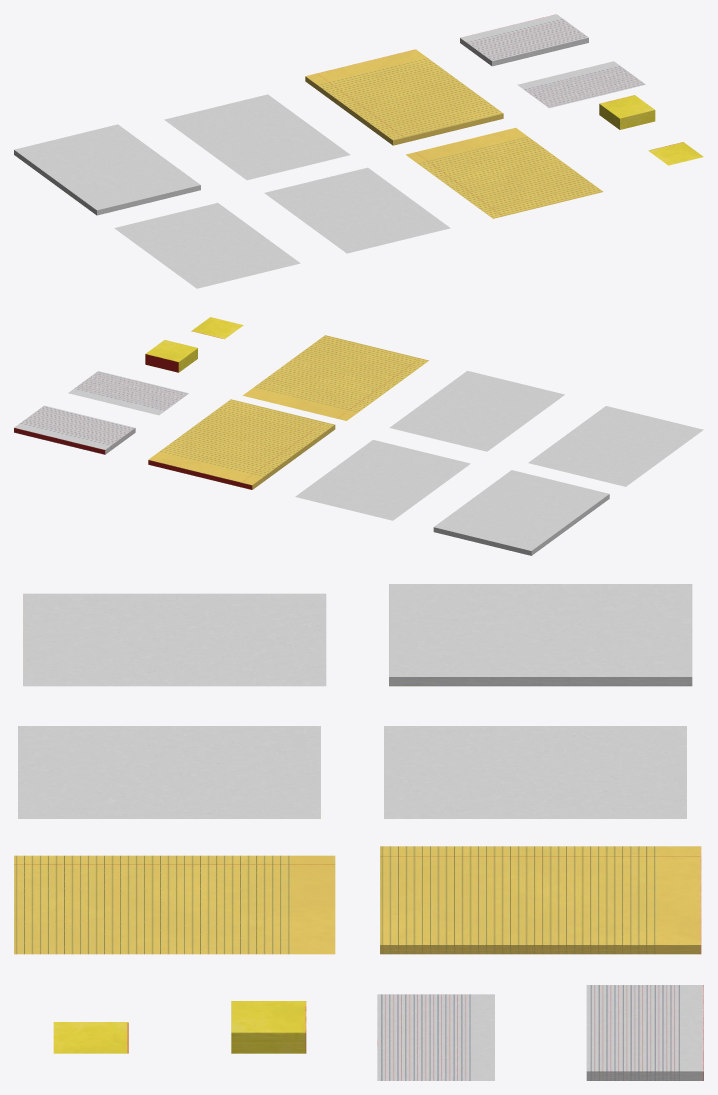
Rendered from papers.glb.
3 renders of one model, top to bottom at view 1: azimuth 30°, elevation 25°; view 2: azimuth 150°, elevation 25°; view 3: azimuth 270°, elevation 25°, orthographic. The views are drawn at different scales.
Parts seen in each view (by area): view 1: office_notepads_yellow_pad, office_notepads_yellow_sheet, office_notepads_a4_stack, office_notepads_a4_a, office_notepads_a4_b, office_notepads_a4_c, office_notepads_note_stack, office_notepads_note_sheet, office_notepads_sticky_stack, office_notepads_sticky_sheet; view 2: office_notepads_yellow_pad, office_notepads_yellow_sheet, office_notepads_a4_stack, office_notepads_a4_b, office_notepads_a4_c, office_notepads_a4_a, office_notepads_note_stack, office_notepads_note_sheet, office_notepads_sticky_stack, office_notepads_sticky_sheet; view 3: office_notepads_yellow_pad, office_notepads_yellow_sheet, office_notepads_a4_stack, office_notepads_a4_a, office_notepads_a4_b, office_notepads_a4_c, office_notepads_note_stack, office_notepads_note_sheet, office_notepads_sticky_stack, office_notepads_sticky_sheet.
Boxes of the visible parts, x1=… form: office_notepads_yellow_pad: x1=305, y1=49, x2=503, y2=145; office_notepads_yellow_sheet: x1=406, y1=127, x2=603, y2=218; office_notepads_a4_stack: x1=14, y1=124, x2=200, y2=215; office_notepads_a4_a: x1=114, y1=203, x2=300, y2=288; office_notepads_a4_b: x1=164, y1=94, x2=350, y2=180; office_notepads_a4_c: x1=264, y1=167, x2=450, y2=253; office_notepads_note_stack: x1=460, y1=14, x2=588, y2=66; office_notepads_note_sheet: x1=517, y1=61, x2=645, y2=108; office_notepads_sticky_stack: x1=599, y1=95, x2=655, y2=129; office_notepads_sticky_sheet: x1=648, y1=142, x2=703, y2=165; office_notepads_yellow_pad: x1=148, y1=399, x2=335, y2=489; office_notepads_yellow_sheet: x1=243, y1=335, x2=428, y2=420; office_notepads_a4_stack: x1=433, y1=470, x2=609, y2=555; office_notepads_a4_b: x1=295, y1=440, x2=470, y2=520; office_notepads_a4_c: x1=389, y1=371, x2=564, y2=451; office_notepads_a4_a: x1=528, y1=406, x2=703, y2=486; office_notepads_note_stack: x1=14, y1=405, x2=135, y2=454; office_notepads_note_sheet: x1=68, y1=371, x2=188, y2=415; office_notepads_sticky_stack: x1=145, y1=340, x2=197, y2=372; office_notepads_sticky_sheet: x1=191, y1=317, x2=243, y2=339; office_notepads_yellow_pad: x1=380, y1=846, x2=701, y2=954; office_notepads_yellow_sheet: x1=14, y1=855, x2=335, y2=954; office_notepads_a4_stack: x1=389, y1=584, x2=692, y2=686; office_notepads_a4_a: x1=23, y1=593, x2=326, y2=686; office_notepads_a4_b: x1=384, y1=726, x2=686, y2=818; office_notepads_a4_c: x1=18, y1=726, x2=320, y2=818; office_notepads_note_stack: x1=586, y1=985, x2=703, y2=1080; office_notepads_note_sheet: x1=377, y1=994, x2=494, y2=1080; office_notepads_sticky_stack: x1=231, y1=1001, x2=306, y2=1053; office_notepads_sticky_sheet: x1=53, y1=1022, x2=128, y2=1053.
Bounding box in the file's own units: 1.1 × 0.022 × 0.6598.
1 material, 1 textured.
